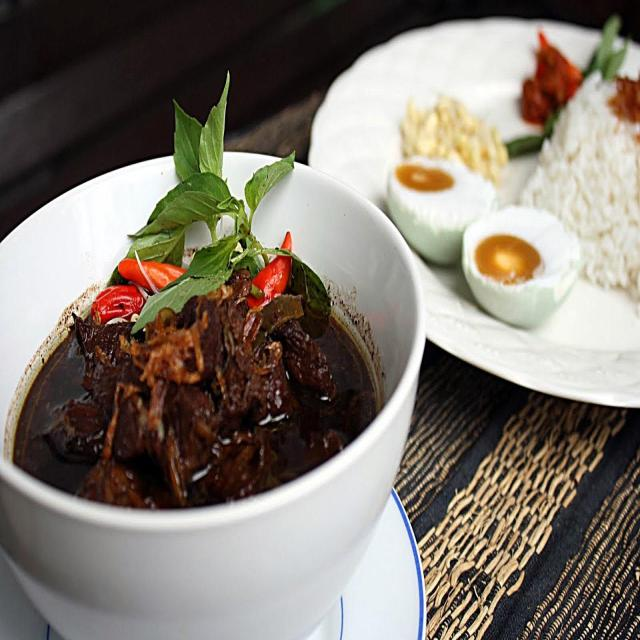Rawon: (30, 262, 389, 486)
